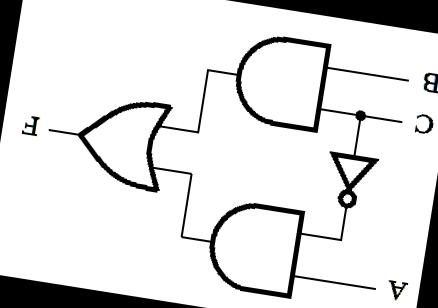and: (220, 21, 340, 138), (194, 188, 312, 306)
not: (313, 141, 384, 217)
or: (63, 84, 178, 198)
